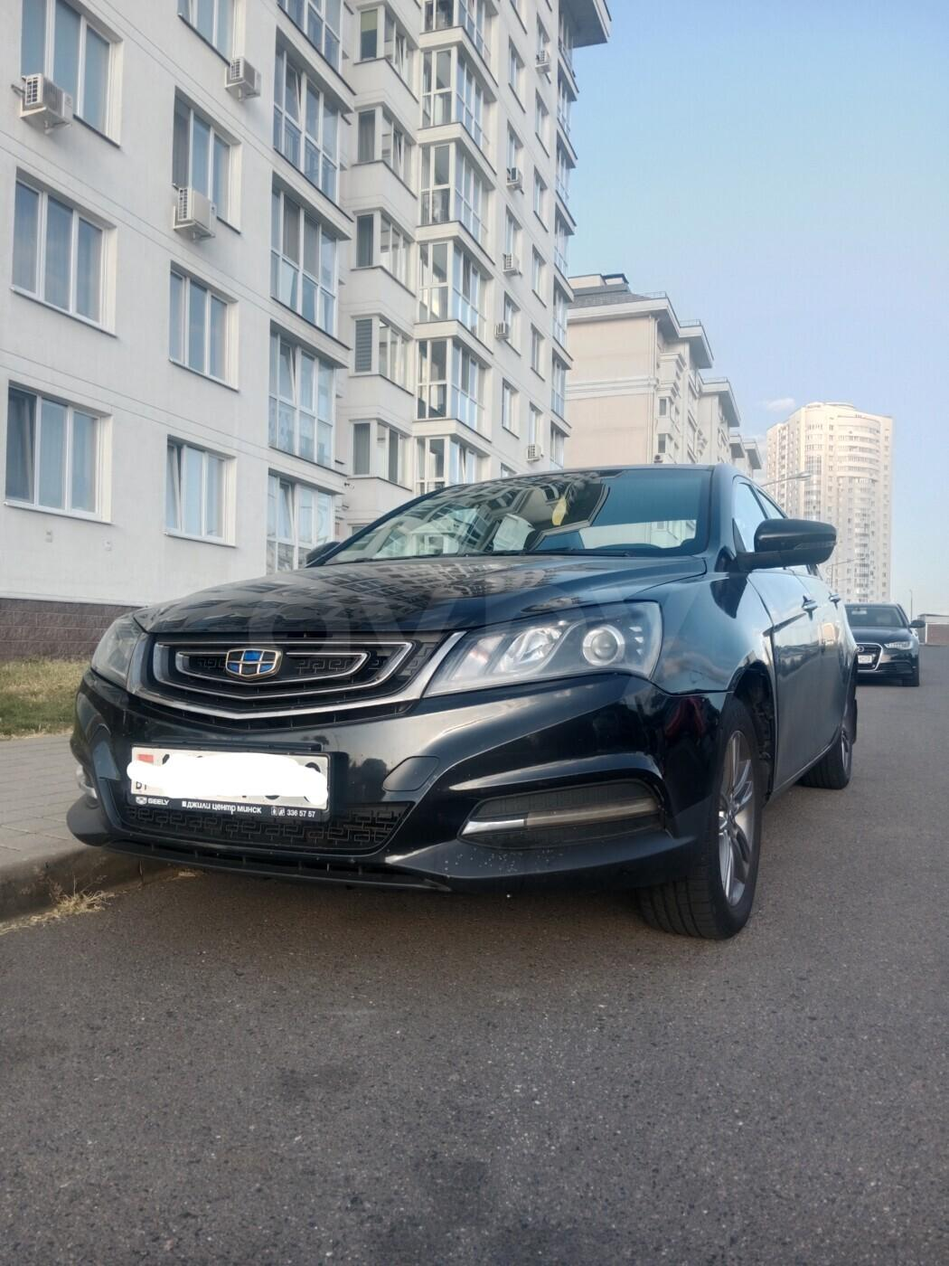Emgrand_2019-2021: (70, 465, 861, 939)
